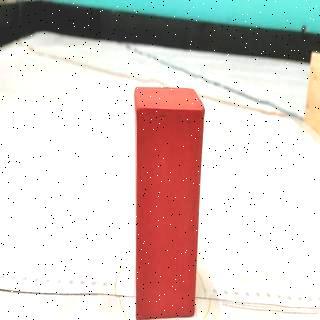redbox: (134, 88, 195, 320)
